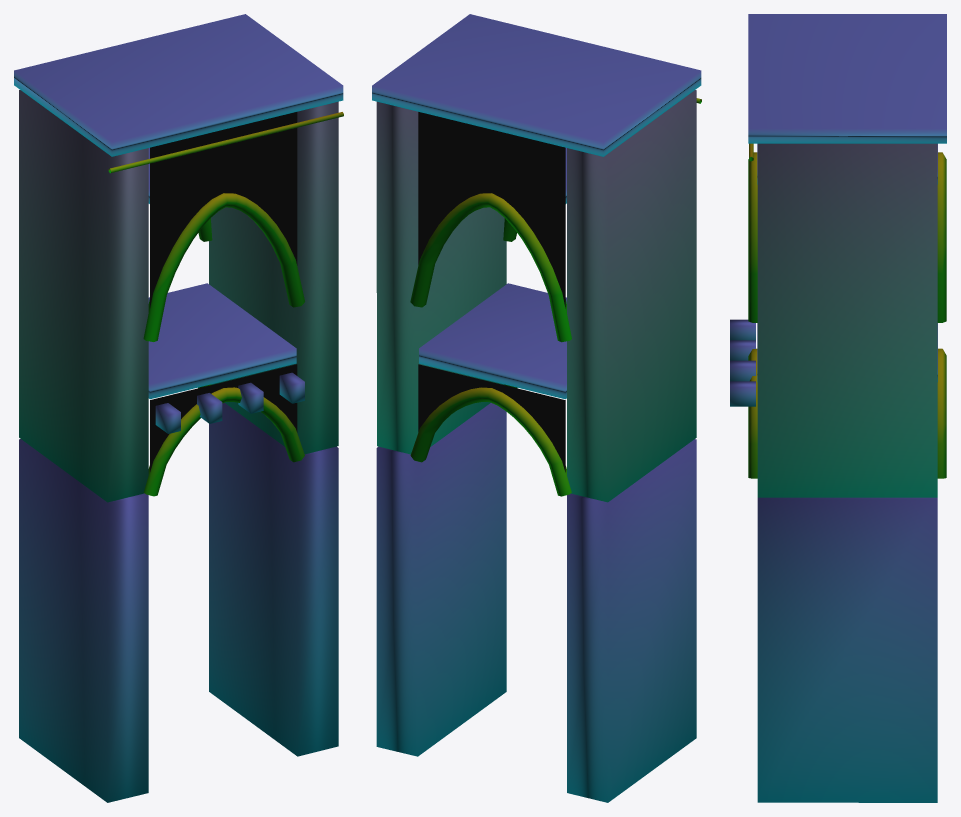
The model's file is vey_arcade_bay.glb.
3 views of the same model, side by side, from view 1: azimuth 30°, elevation 25°; view 2: azimuth 150°, elevation 25°; view 3: azimuth 270°, elevation 25° (orthographic).
Visible parts, largest first — view 1: vey_arcade_bay; view 2: vey_arcade_bay; view 3: vey_arcade_bay.
Part boxes in pixels (x1,y1,x2,y2): vey_arcade_bay: (14, 14, 343, 802); vey_arcade_bay: (372, 14, 701, 802); vey_arcade_bay: (730, 14, 946, 802).
Size of what is drawn, in the model's own units: 6 by 16.37 by 4.77.
